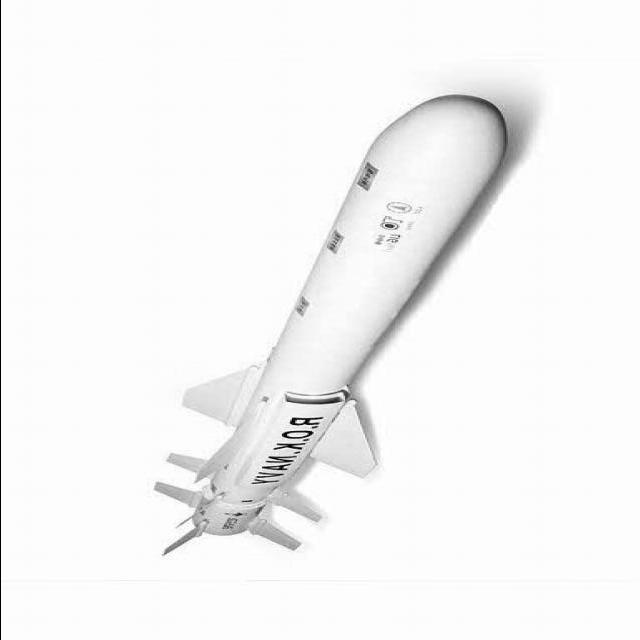missile: (107, 72, 534, 580)
